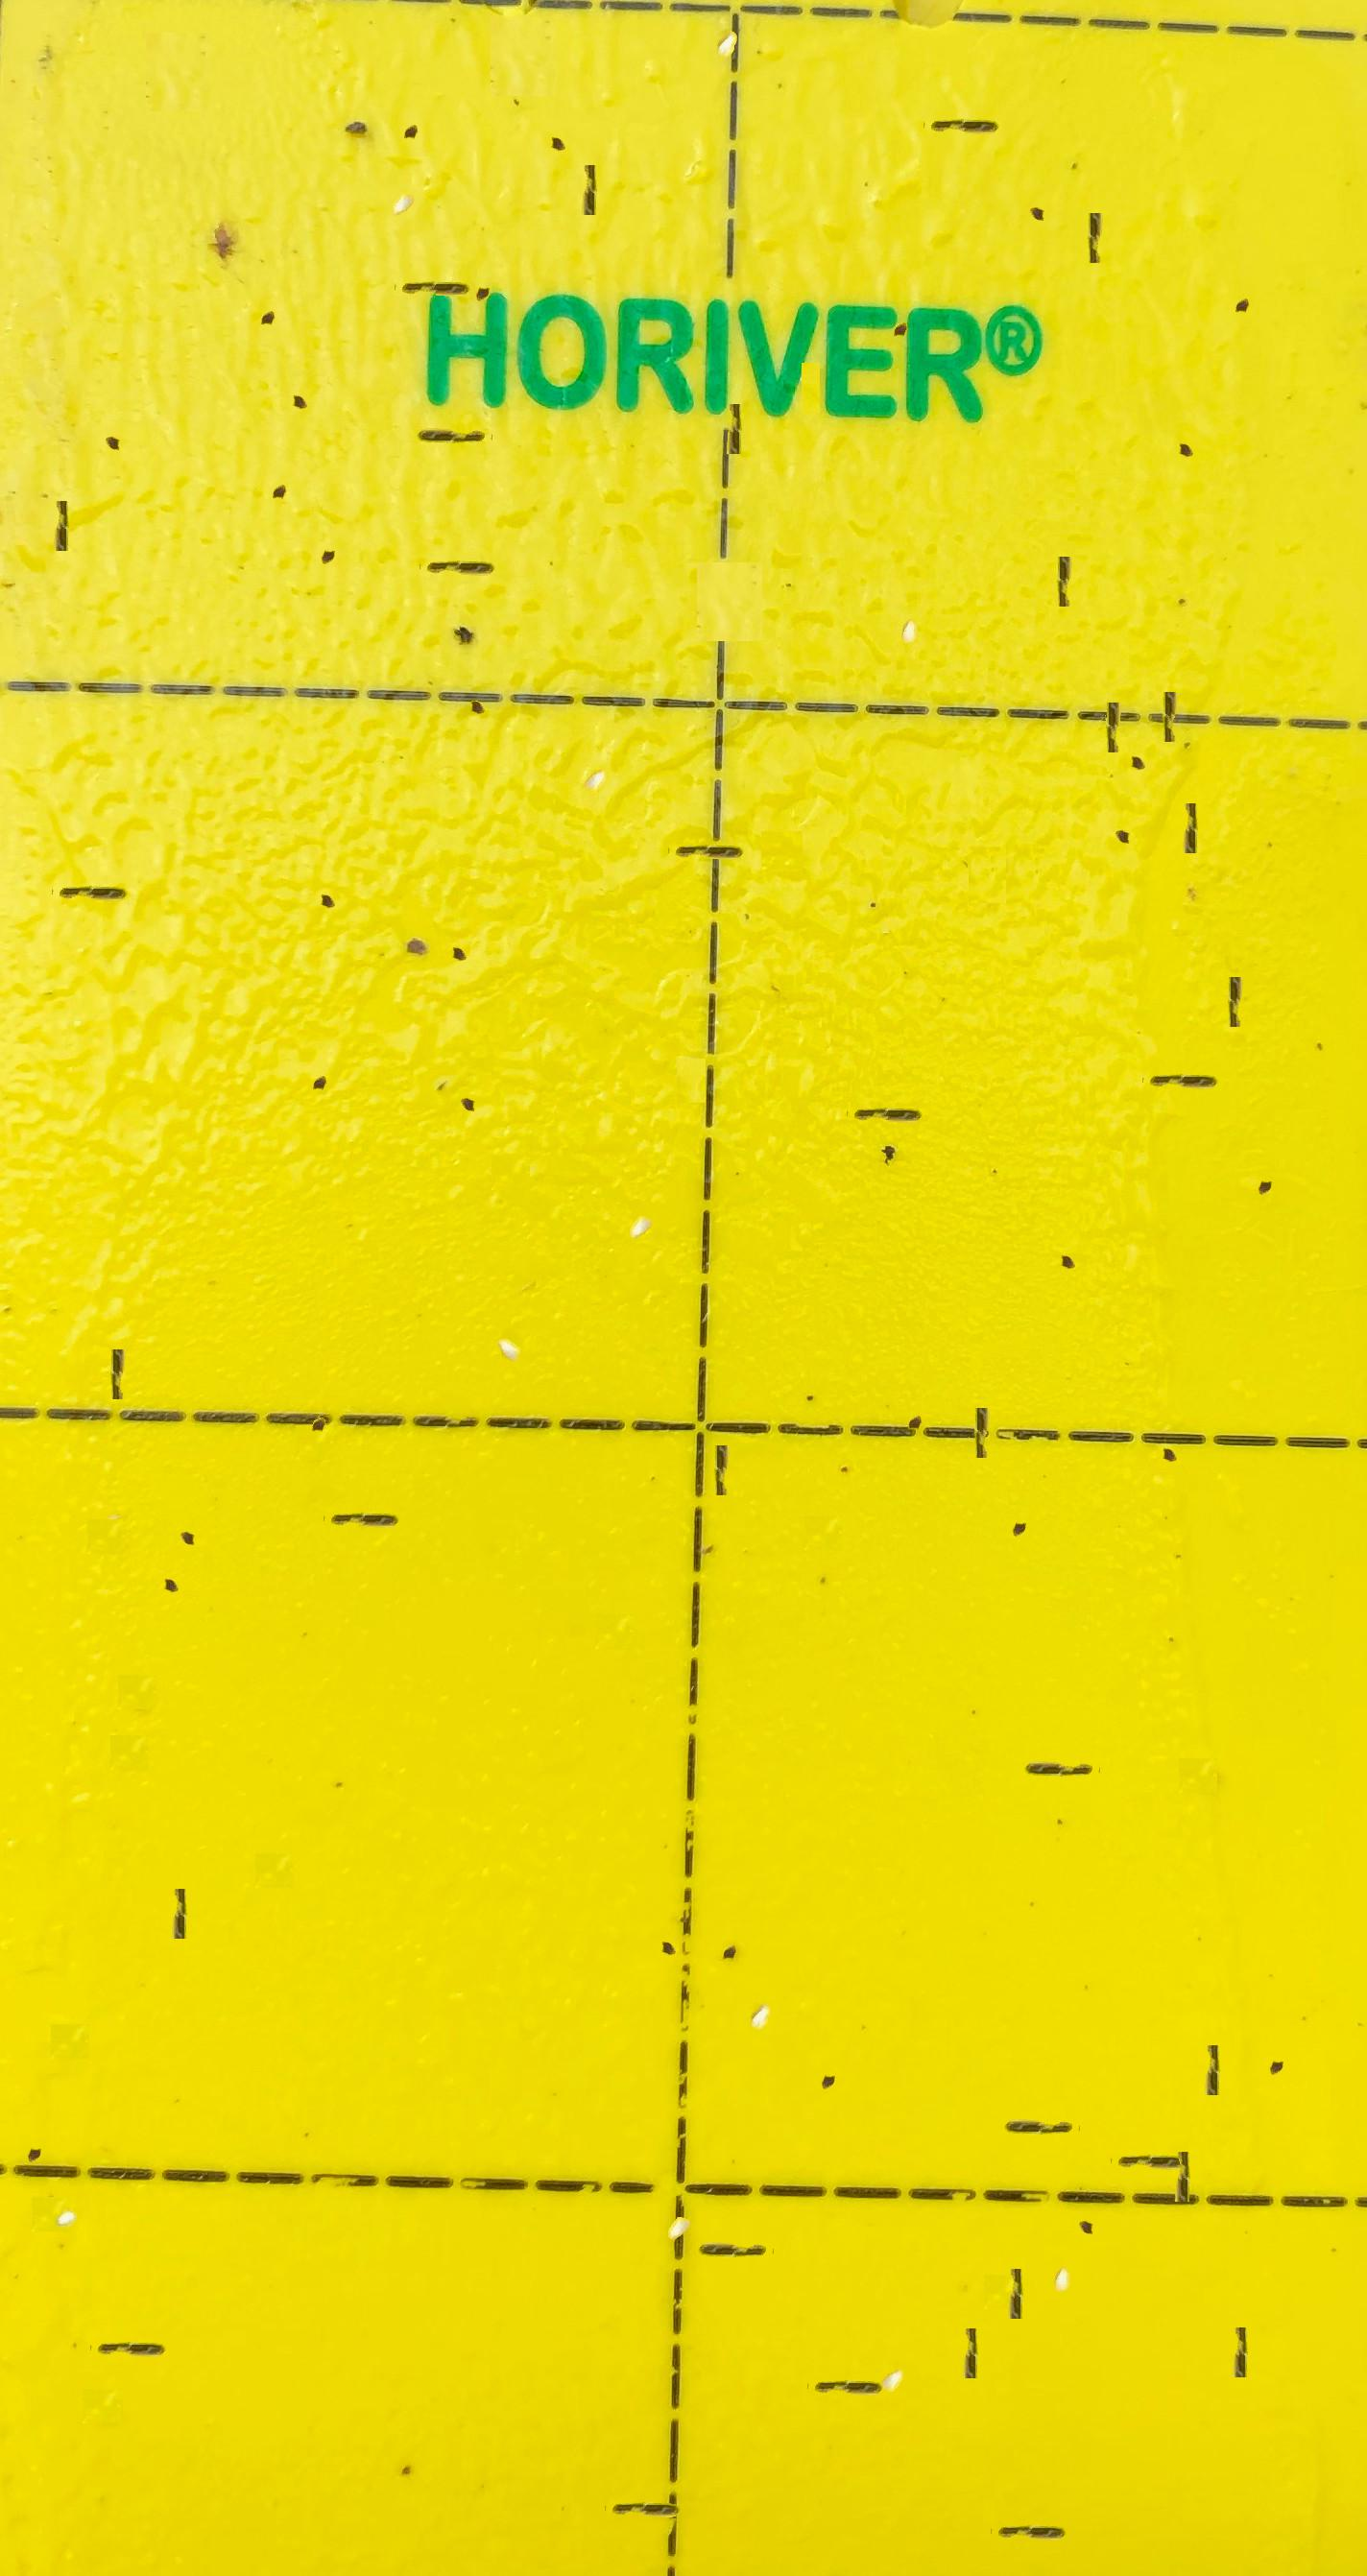white_fly: (46, 2147, 89, 2194), (658, 2162, 701, 2206), (741, 1952, 784, 1997), (574, 717, 617, 760), (620, 1162, 663, 1205), (382, 138, 424, 181), (871, 2317, 914, 2360), (489, 1286, 530, 1329), (886, 578, 929, 615), (1040, 2225, 1081, 2263)
